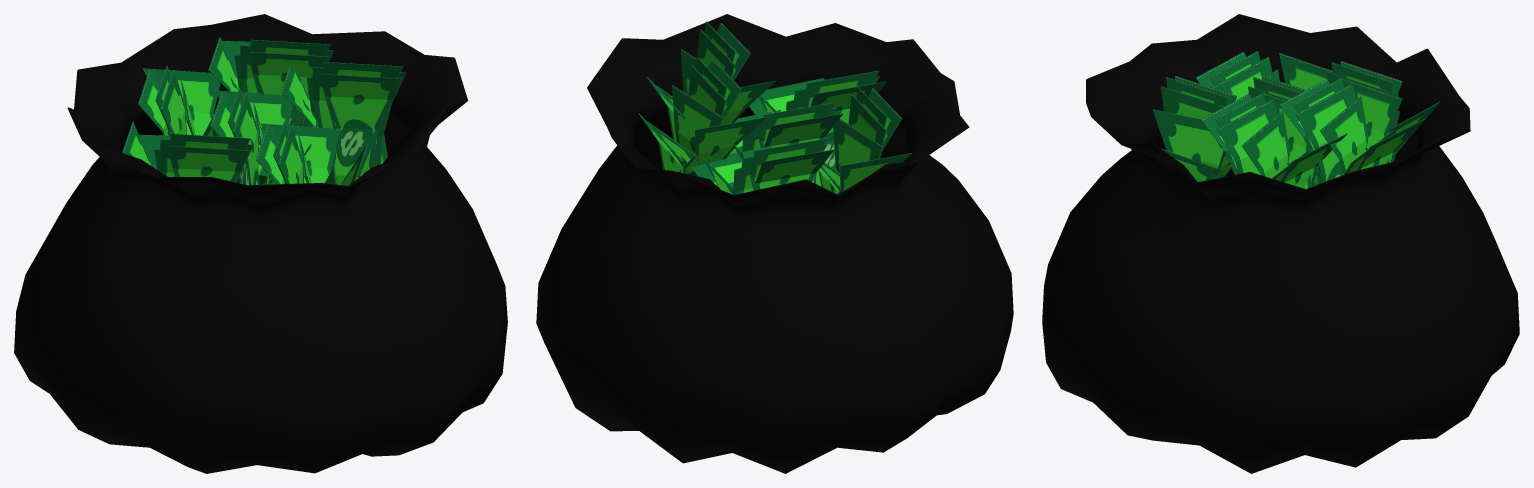
Rendered from bag.fbx.
3 views of the same model, side by side, from view 1: azimuth 30°, elevation 25°; view 2: azimuth 150°, elevation 25°; view 3: azimuth 270°, elevation 25° (orthographic). The views are drawn at different scales.
Parts seen in each view (by area): view 1: Money.006; view 2: Money.006; view 3: Money.006.
Boxes of the visible parts, x1,y1,x2,y2 form: Money.006: [14, 14, 507, 473]; Money.006: [536, 14, 1013, 473]; Money.006: [1042, 14, 1519, 473].
Size of the model in its own units: 0.3369 by 0.2595 by 0.3363.
Materials: 2 (1 with a texture image).
